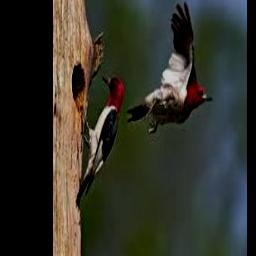Woodpecker: (126, 1, 213, 133), (76, 75, 125, 208)
